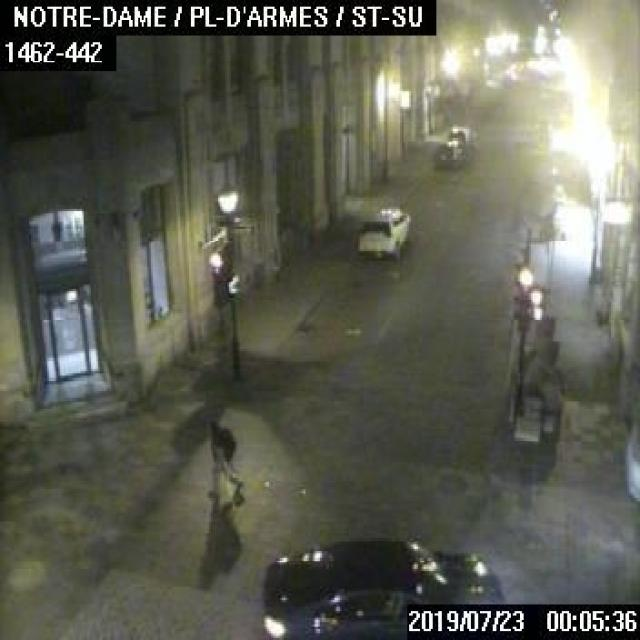pedestrian: (204, 416, 240, 496)
vehicle: (258, 531, 506, 638), (356, 204, 409, 256), (447, 124, 472, 152), (433, 140, 459, 164)
